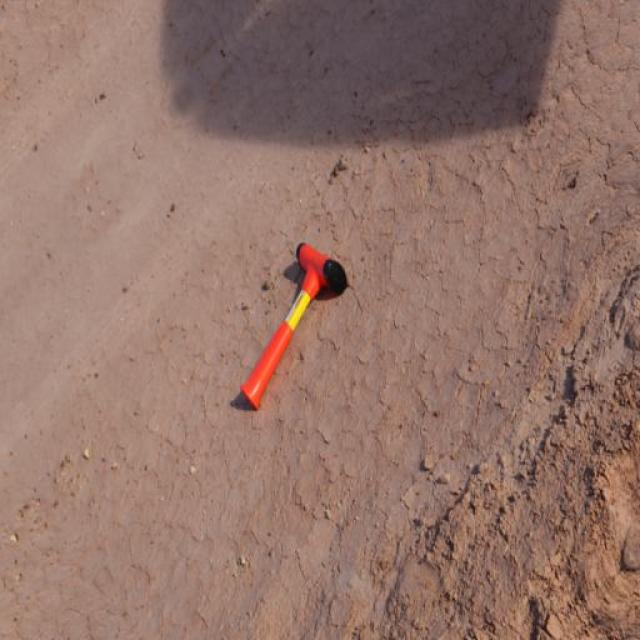mallet: (230, 240, 349, 411)
